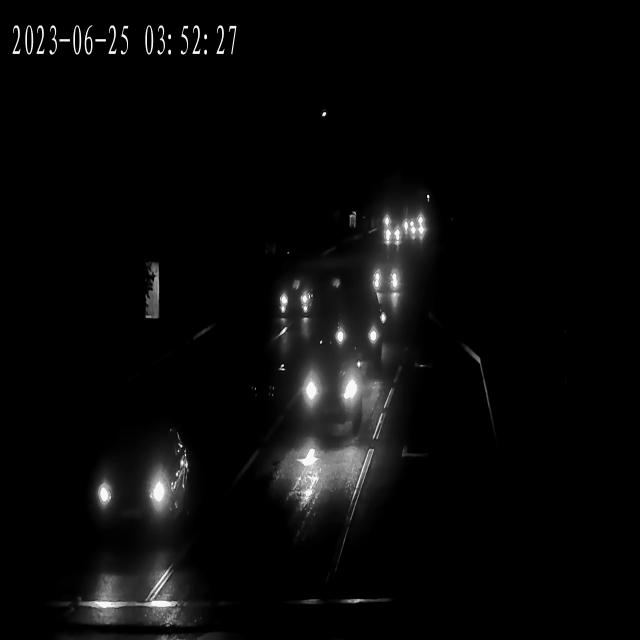Car: (82, 424, 191, 543), (290, 350, 366, 429), (324, 312, 384, 364), (278, 284, 310, 317), (372, 263, 402, 293), (379, 227, 399, 244), (405, 223, 427, 238), (382, 230, 402, 246), (406, 226, 426, 241), (404, 221, 424, 236)
